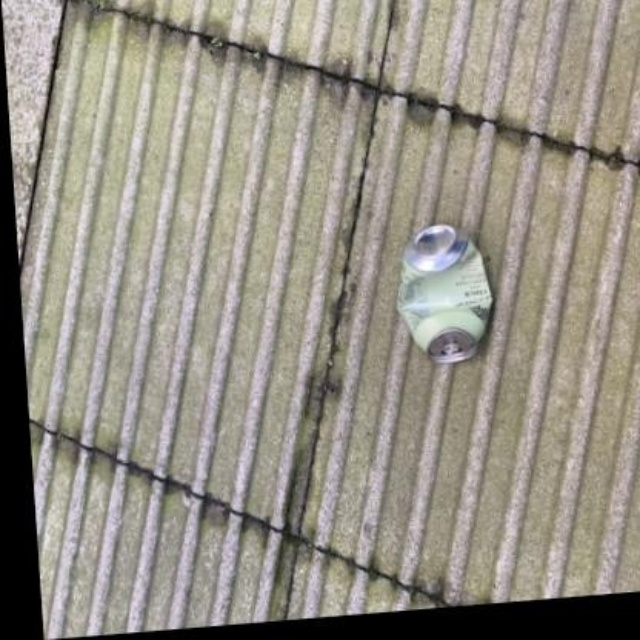trash: (397, 225, 491, 362)
